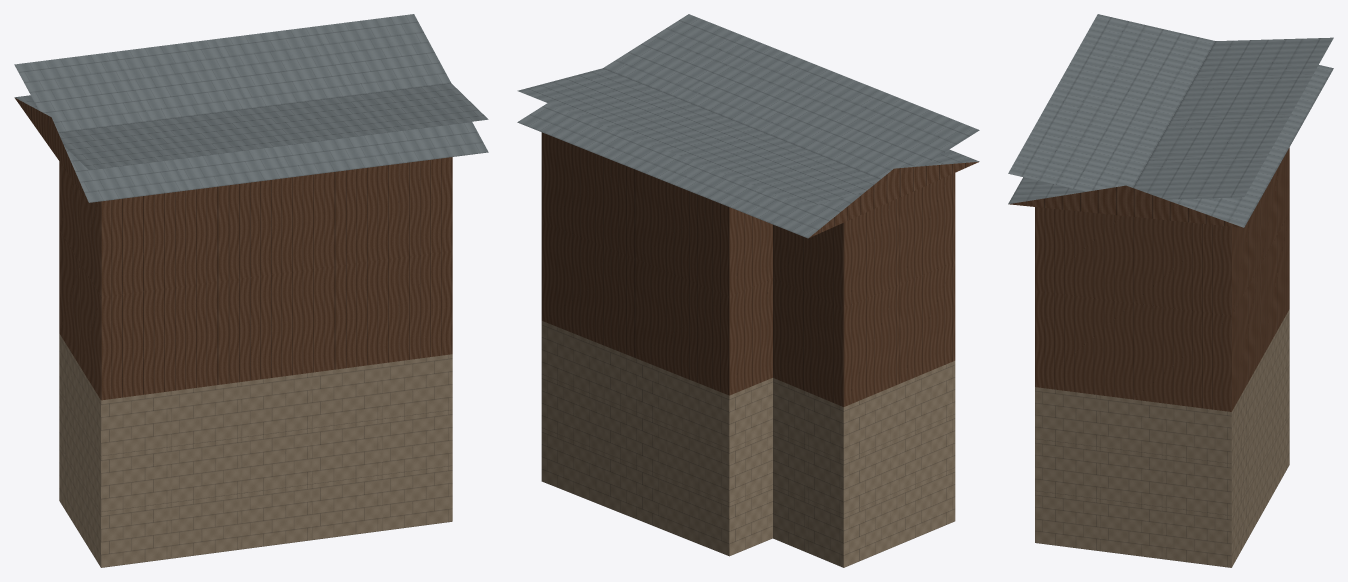
File: bld_c-3_19_543.gltf
3 renders of one model, left to right at view 1: azimuth 30°, elevation 25°; view 2: azimuth 150°, elevation 25°; view 3: azimuth 270°, elevation 25°, orthographic. The views are drawn at different scales.
Parts seen in each view (by area): view 1: bld_c-3_19_543; view 2: bld_c-3_19_543; view 3: bld_c-3_19_543.
Part boxes in pixels (box(x1,y1,x2,y2)): bld_c-3_19_543: box(14, 14, 488, 567); bld_c-3_19_543: box(517, 14, 979, 567); bld_c-3_19_543: box(1008, 14, 1333, 567).
Size of the model in its own units: 12.86 by 12.4 by 9.66.
Materials: 4 (4 with a texture image).
